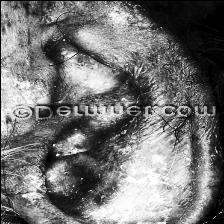Unclassified: (0, 24, 116, 83), (36, 148, 134, 194)
